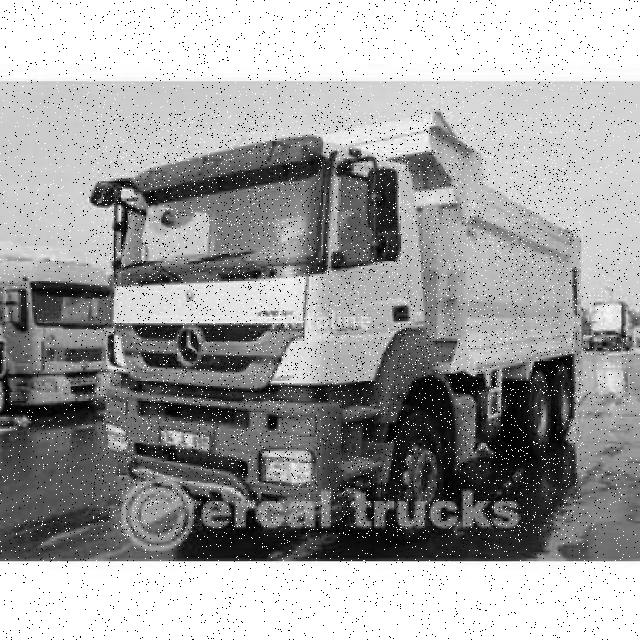Truck- Multi-Axle: (91, 112, 581, 539)
